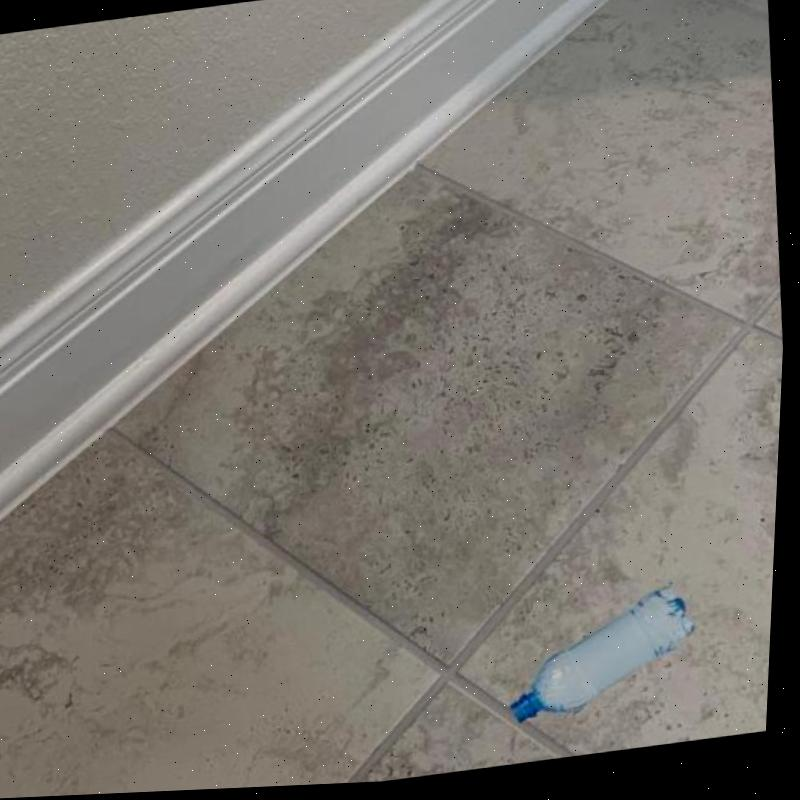botella: (506, 591, 705, 727)
